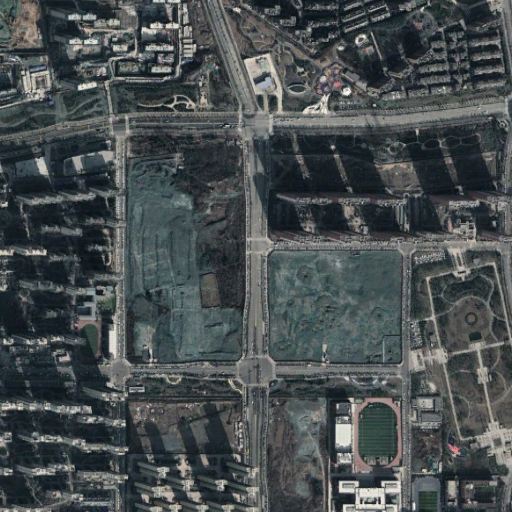cw: (123, 146, 248, 362), (269, 248, 403, 366), (126, 397, 243, 455), (270, 396, 328, 512)
